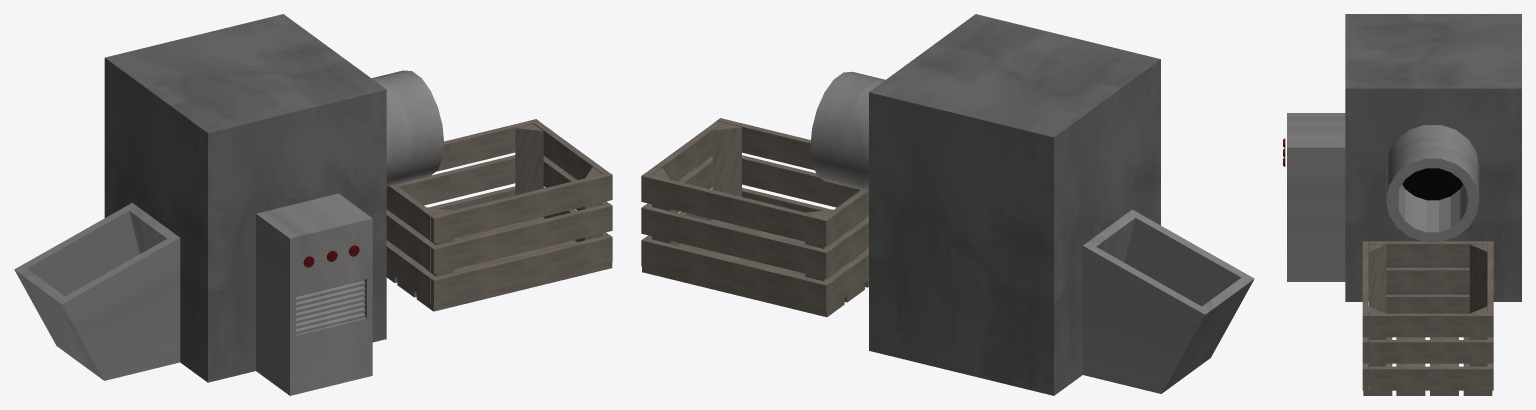
File: machine2.FBX
3 renders of one model, left to right at view 1: azimuth 30°, elevation 25°; view 2: azimuth 150°, elevation 25°; view 3: azimuth 270°, elevation 25°, orthographic. The views are drawn at different scales.
Parts seen in each view (by area): view 1: Box001, Cylinder004, Box005, crate, Box004, Box007, Box008, Box022, Box011, Box013, Box012, Box014 (+4 smaller); view 2: Box001, Cylinder004, Box006, Box008, Box007, Box004, Box005, Box021, Box011, Box015, Box012, Box013 (+4 smaller); view 3: Box001, Cylinder004, Box009, Box011, Box010, Box014, Box013, Box012, Box020, Box019, Box005, Box008 (+5 smaller).
Boxes of the visible parts, x1,y1,x2,y2 form: Box001: (14,14,386,395); Cylinder004: (371,70,443,186); Box005: (430,172,612,243); crate: (430,234,612,305); Box004: (430,203,612,274); Box007: (395,155,515,205); Box008: (436,119,539,171); Box022: (515,124,543,195); Box011: (533,121,608,179); Box013: (386,209,435,271); Box012: (386,241,435,302); Box014: (386,184,435,240); Box001: (869,14,1254,395); Cylinder004: (810,71,885,191); Box006: (641,238,829,311); Box008: (641,173,829,246); Box007: (641,205,829,278); Box004: (742,155,860,207); Box005: (717,118,814,170); Box021: (712,122,741,196); Box011: (645,121,722,181); Box015: (642,266,844,317); Box012: (824,249,868,308); Box013: (824,216,868,275); Box001: (1287,14,1521,301); Cylinder004: (1386,125,1479,241); Box009: (1369,366,1487,390); Box011: (1369,313,1487,337); Box010: (1369,340,1487,363); Box014: (1369,241,1487,265); Box013: (1386,267,1487,291); Box012: (1386,294,1487,313); Box020: (1469,244,1487,313); Box019: (1369,244,1386,313); Box005: (1362,241,1368,337); Box008: (1487,241,1493,337).
Size of the model in its own units: 4.47 by 2 by 2.03.
5 materials, 3 textured.
